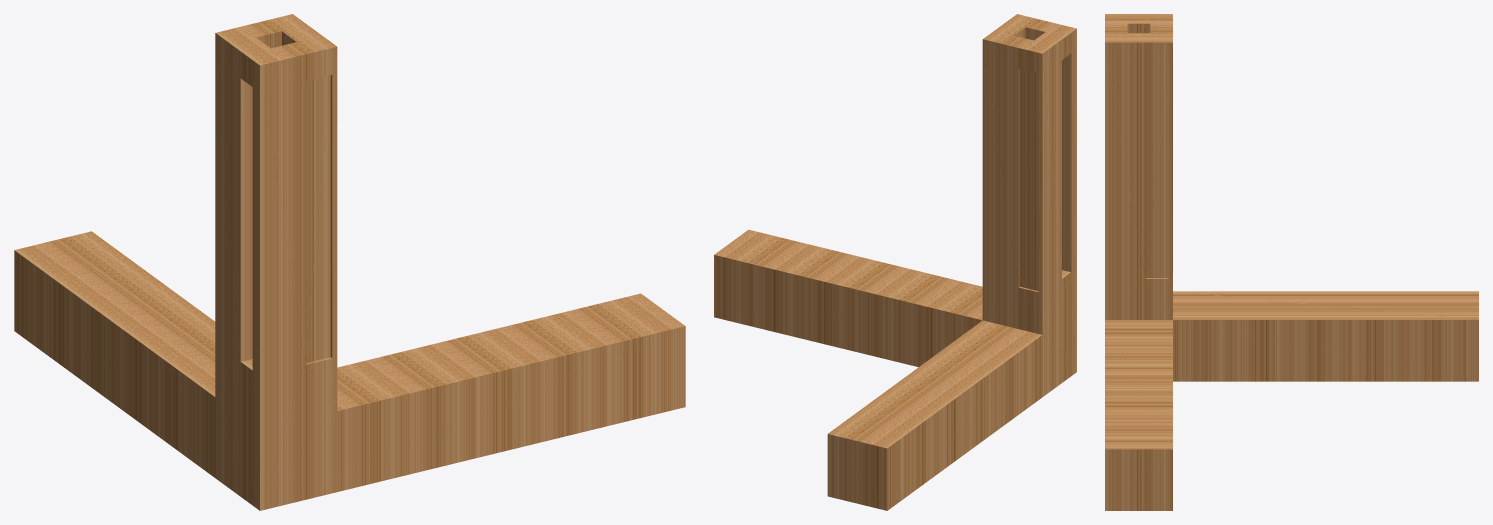
The model's file is XYZ.FBX.
3 views of the same model, side by side, from view 1: azimuth 30°, elevation 25°; view 2: azimuth 150°, elevation 25°; view 3: azimuth 270°, elevation 25° (orthographic). The views are drawn at different scales.
Parts seen in each view (by area): view 1: Model; view 2: Model; view 3: Model.
Part boxes in pixels (bbox=[...]): Model: bbox=[14, 14, 685, 510]; Model: bbox=[714, 14, 1076, 510]; Model: bbox=[1105, 14, 1478, 510].
Bounding box in the file's own units: 650 × 650 × 650.
Materials: 1 (1 with a texture image).
